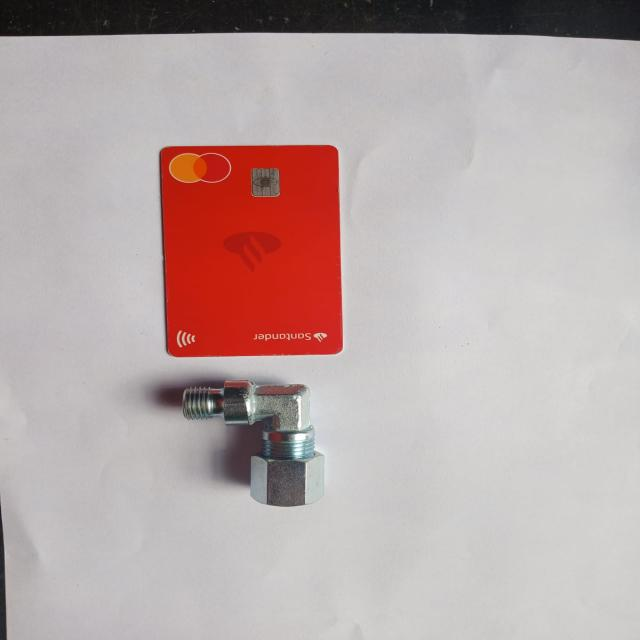cartao: (160, 146, 341, 358)
rosca_externa: (182, 375, 324, 507)
